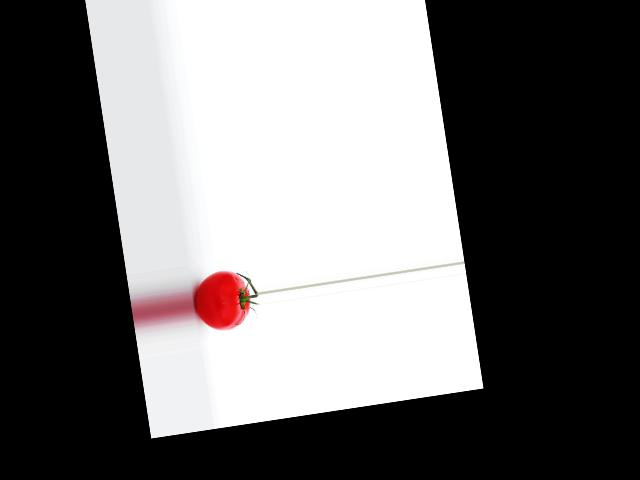tomato: (190, 268, 253, 335)
